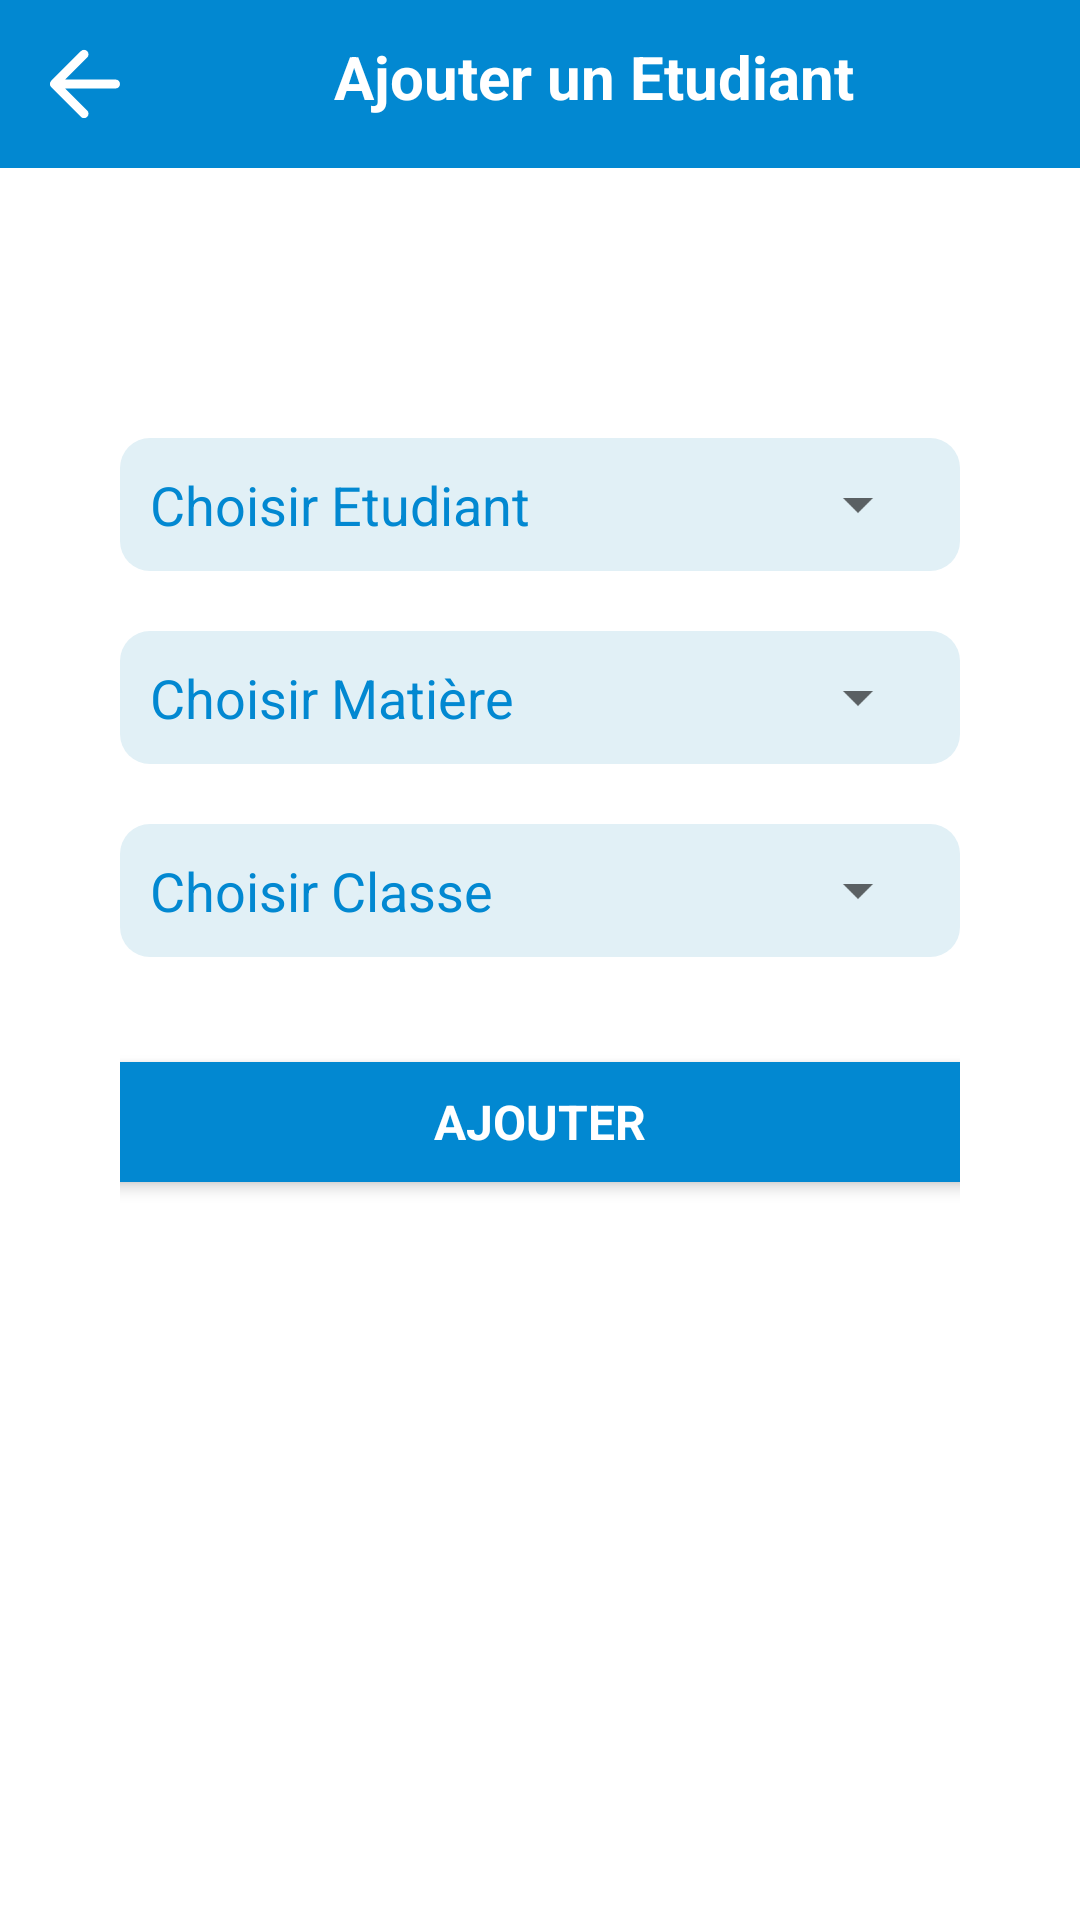

Where to tap for icons on this 1080 x 1920 app screen, as point (x, y):
back: point (85, 84)
